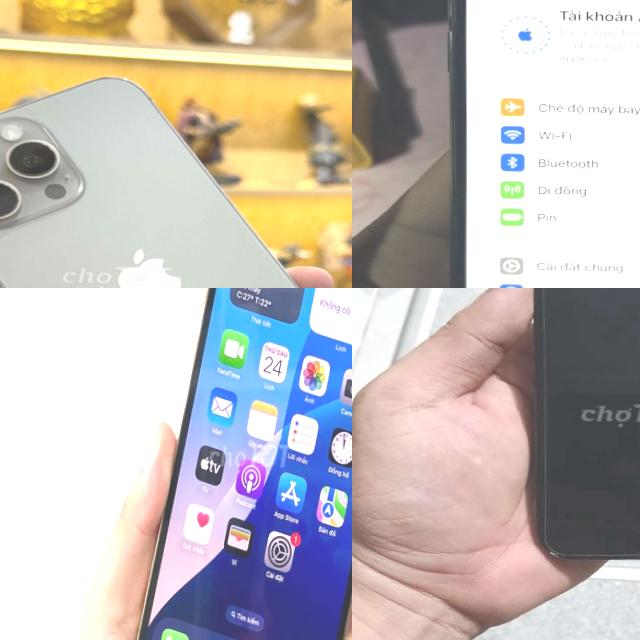gen_11: (425, 0, 640, 288)
gen_12_13: (131, 288, 352, 640), (526, 288, 640, 571)
gen_16: (0, 66, 352, 288)
